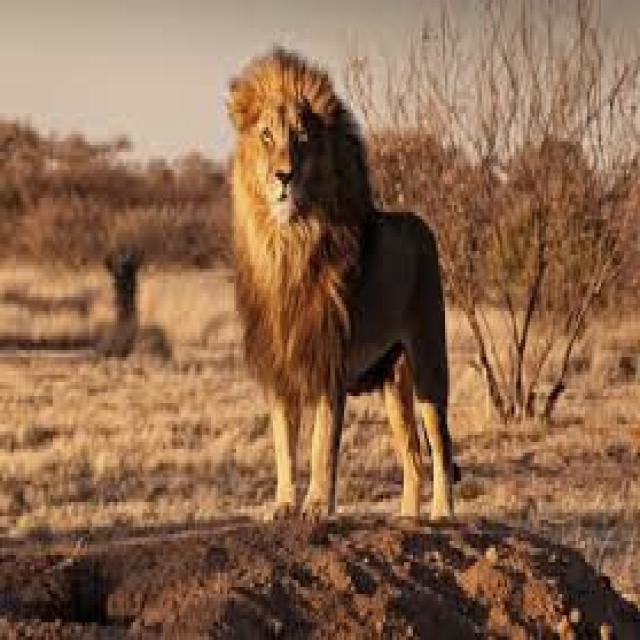lion: (229, 50, 459, 513)
